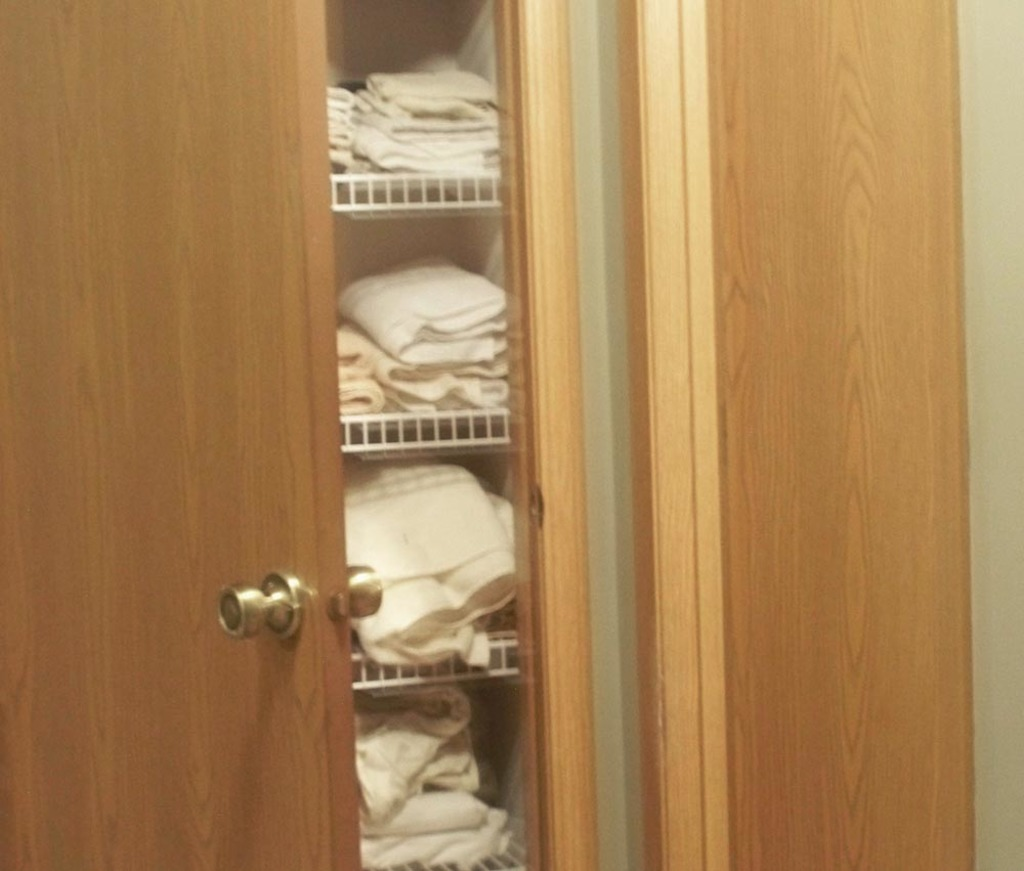door: (6, 10, 356, 852)
handle: (207, 554, 319, 656), (345, 553, 385, 627)
